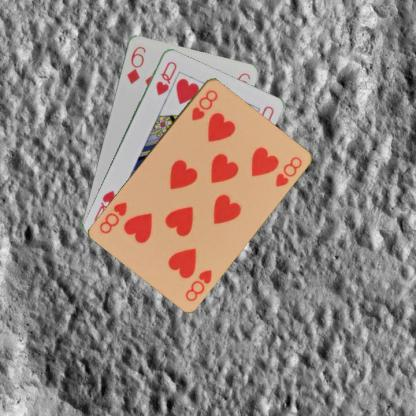6d: (124, 44, 147, 86)
8h: (182, 266, 213, 303), (188, 87, 219, 122)
Qh: (153, 58, 178, 96)
